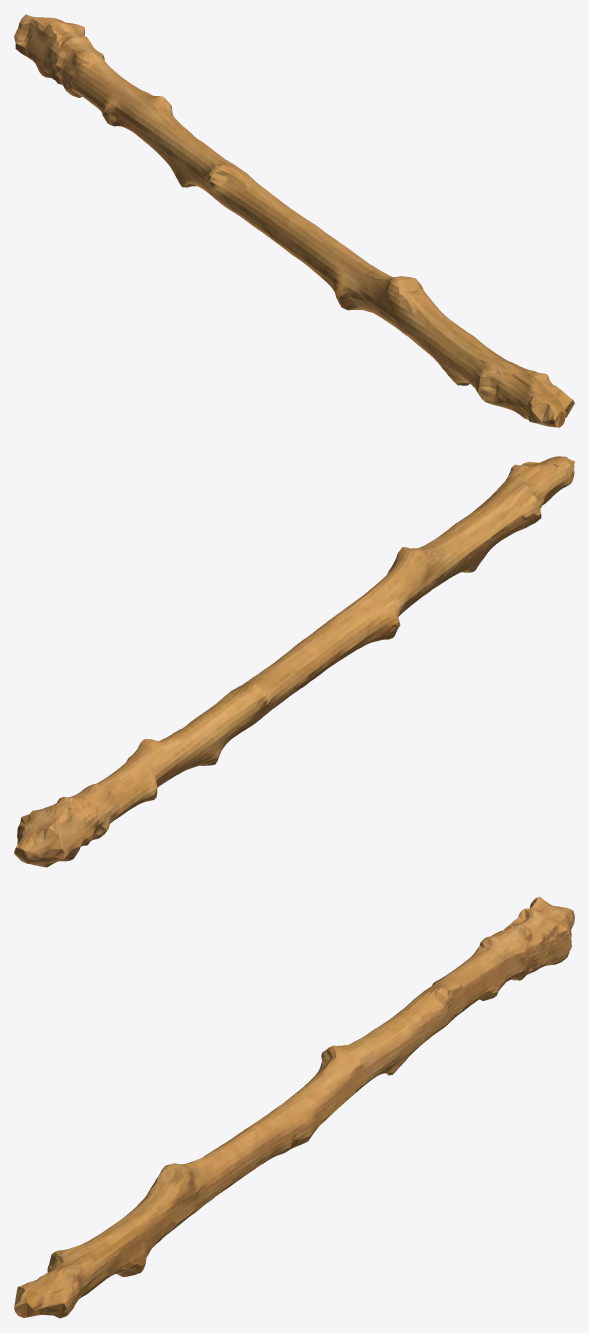
Rendered from stick.obj.
3 views of the same model, one above another, from view 1: azimuth 30°, elevation 25°; view 2: azimuth 150°, elevation 25°; view 3: azimuth 330°, elevation 25° (orthographic).
Parts seen in each view (by area): view 1: Object.1; view 2: Object.1; view 3: Object.1.
Boxes of the visible parts, x1,y1,x2,y2 form: Object.1: (14,14,574,427); Object.1: (14,456,574,867); Object.1: (14,896,574,1318).
Size of the model in its own units: 18.21 by 18.18 by 269.
Materials: 1 (1 with a texture image).
